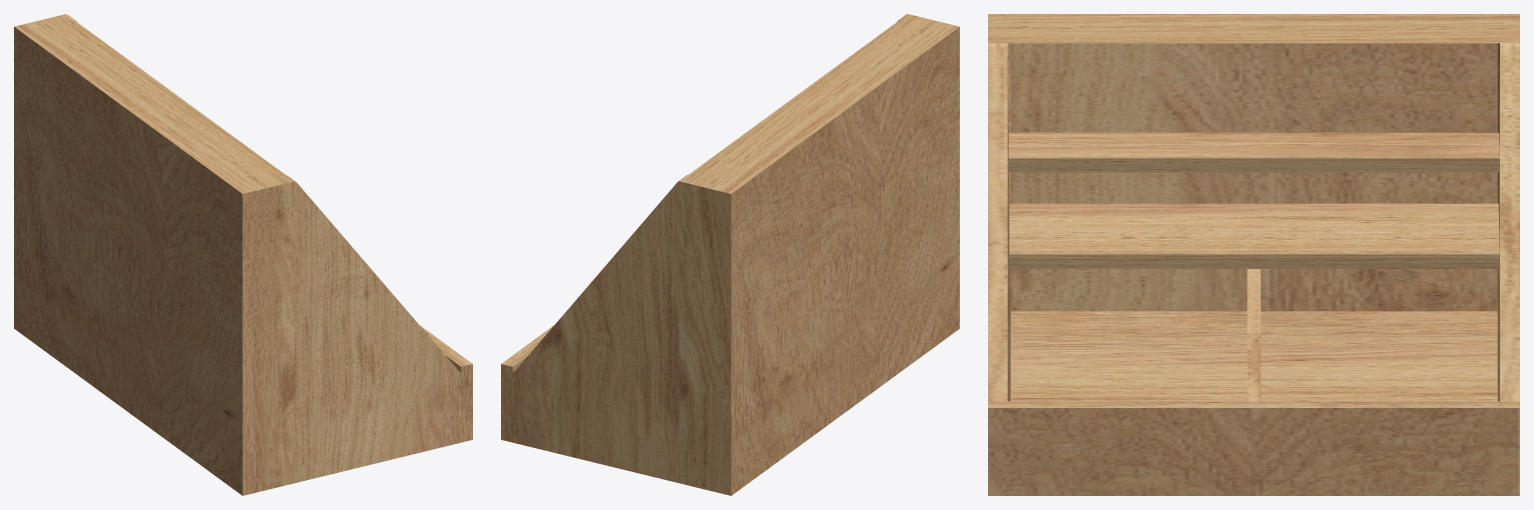
Rendered from exhibidor-pan.glb.
The picture shows the model from 3 angles, left to right: view 1: azimuth 30°, elevation 25°; view 2: azimuth 150°, elevation 25°; view 3: azimuth 270°, elevation 25°; orthographic projection. The views are drawn at different scales.
Visible parts, largest first — view 1: exhibidor; view 2: exhibidor; view 3: exhibidor.
Part boxes in pixels (x1,y1,x2,y2): exhibidor: (14, 14, 472, 495); exhibidor: (501, 14, 959, 495); exhibidor: (988, 14, 1519, 495).
Size of the model in its own units: 6.89 by 8.63 by 11.85.
1 material, 1 textured.
